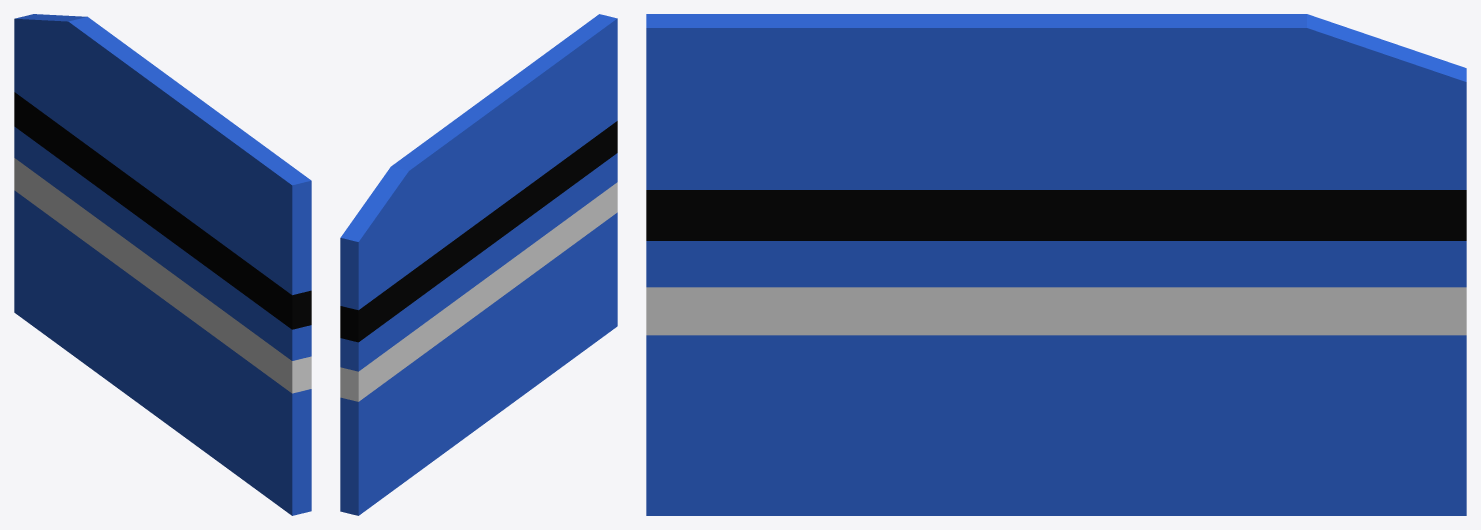
Rendered from Keycard.fbx.
3 renders of one model, left to right at view 1: azimuth 30°, elevation 25°; view 2: azimuth 150°, elevation 25°; view 3: azimuth 270°, elevation 25°, orthographic. The views are drawn at different scales.
Parts seen in each view (by area): view 1: Keycard; view 2: Keycard; view 3: Keycard.
Part boxes in pixels (x1=…): Keycard: x1=14, y1=14, x2=311, y2=515; Keycard: x1=340, y1=14, x2=617, y2=515; Keycard: x1=646, y1=14, x2=1466, y2=515.
Size of the model in its own units: 0.5321 by 8.66 by 13.19.
